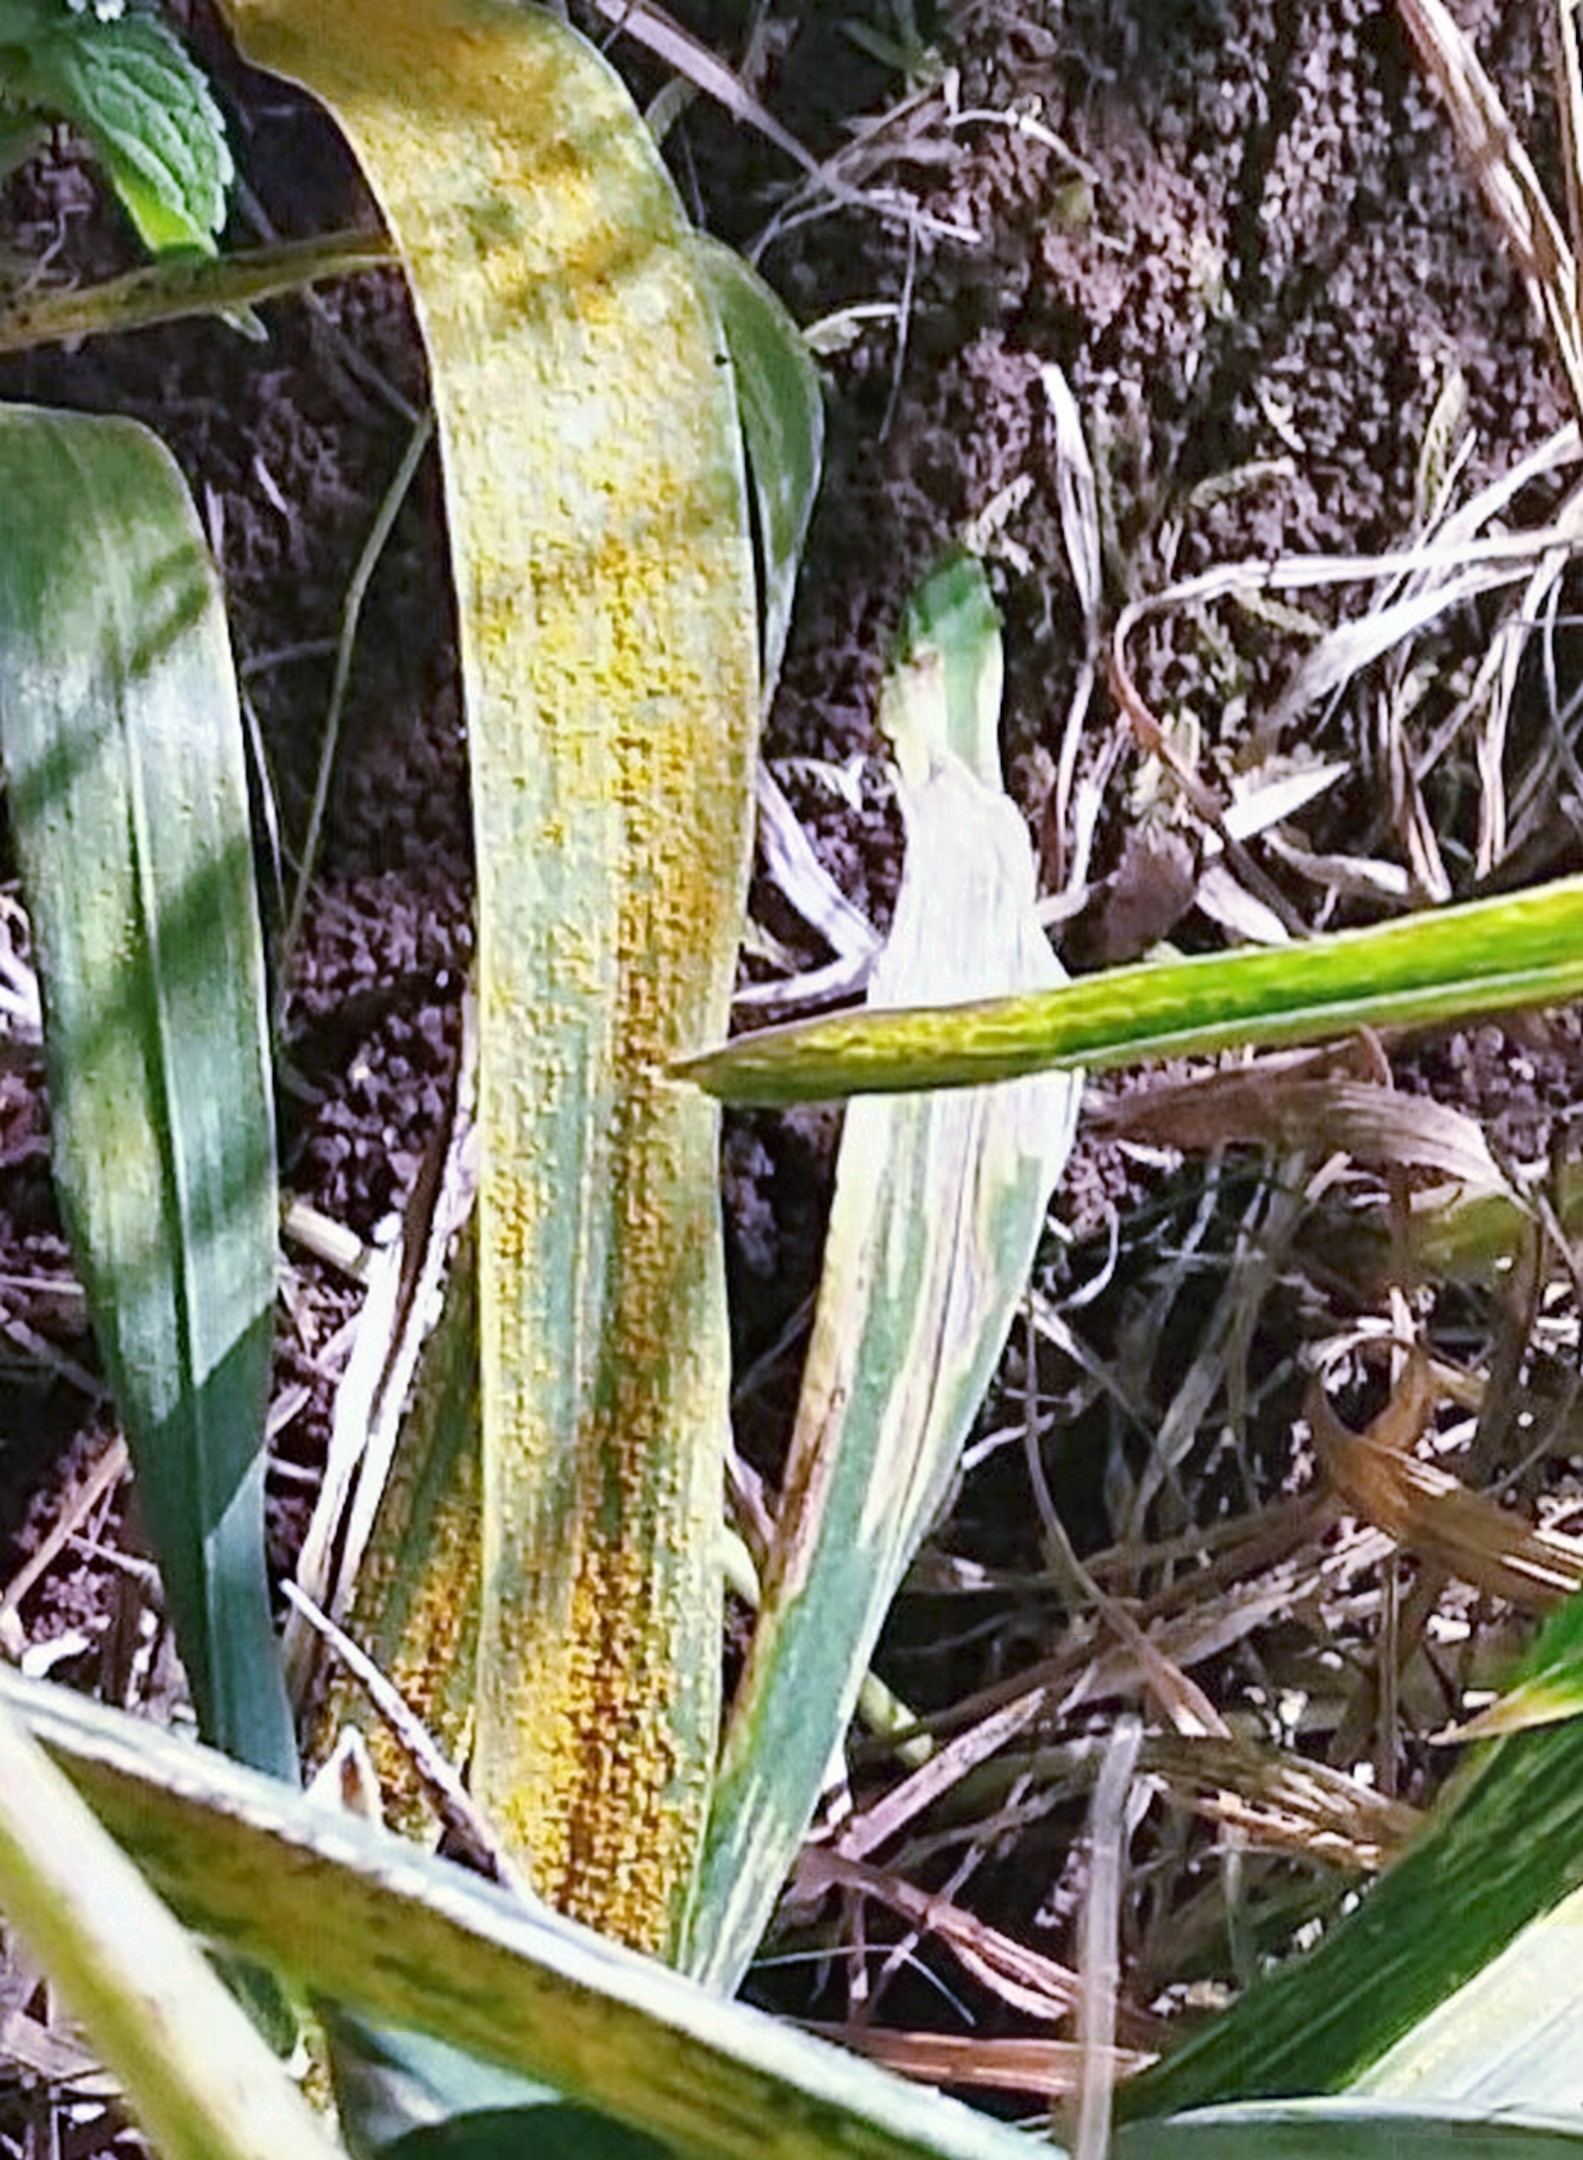Leaf Rust: (397, 277, 790, 1887)
